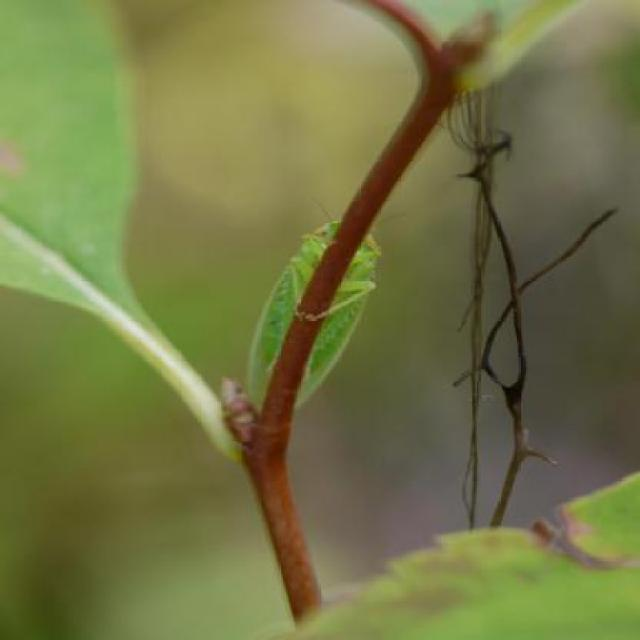green-leafhopper: (229, 217, 385, 423)
